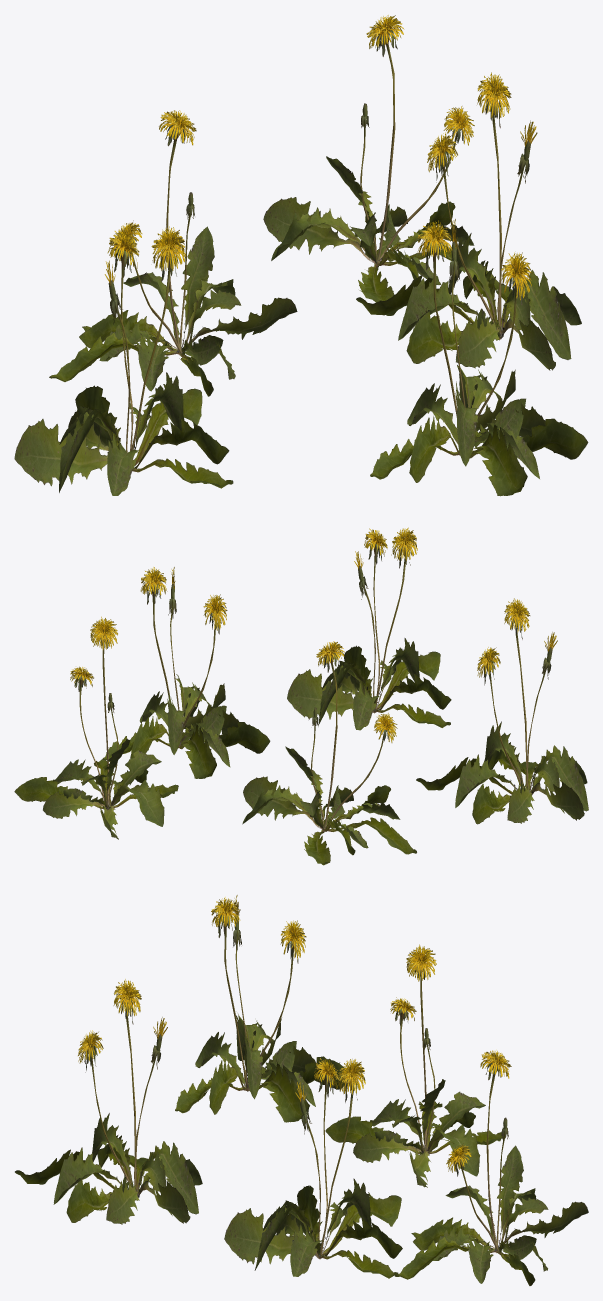
Rendered from dandelion_01_clump.fbx.
3 views of the same model, one above another, from view 1: azimuth 30°, elevation 25°; view 2: azimuth 150°, elevation 25°; view 3: azimuth 270°, elevation 25° (orthographic). The views are drawn at different scales.
Parts seen in each view (by area): view 1: dandelion_01_clump; view 2: dandelion_01_clump; view 3: dandelion_01_clump.
Part boxes in pixels (box(x1,y1,x2,y2)): dandelion_01_clump: box(14, 15, 588, 496); dandelion_01_clump: box(14, 527, 588, 865); dandelion_01_clump: box(15, 895, 588, 1285).
Bounding box in the file's own units: 0.8413 × 0.3406 × 0.8492.
Materials: 1 (1 with a texture image).
